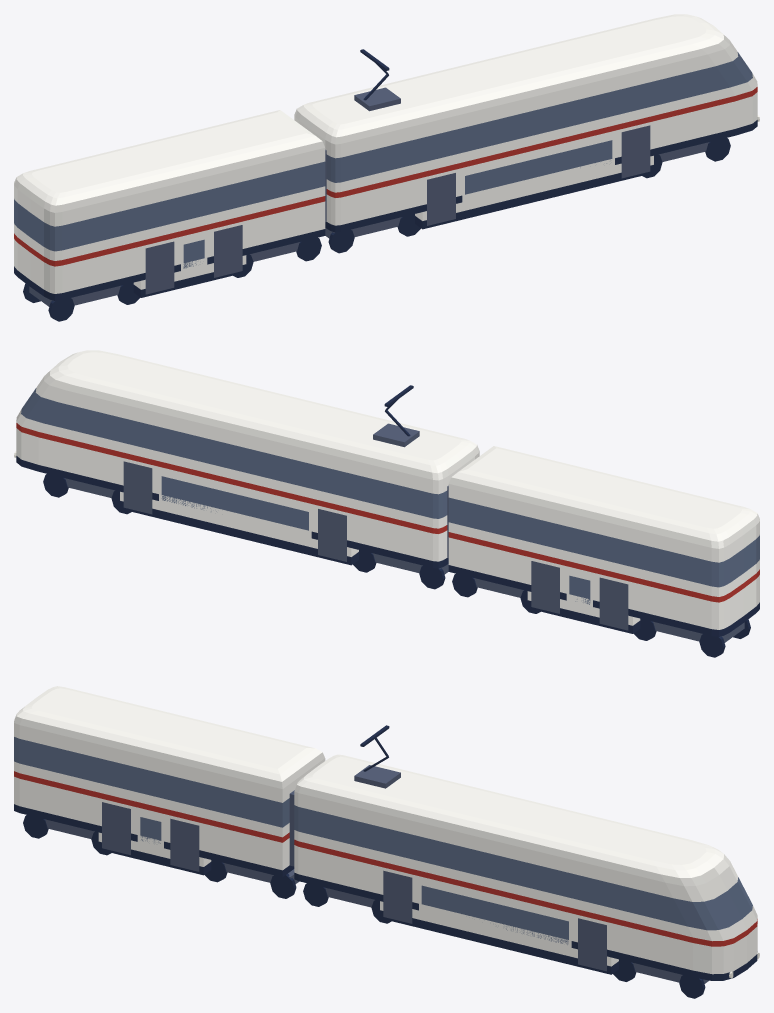
The model's file is train-regional.glb.
3 views of the same model, one above another, from view 1: azimuth 30°, elevation 25°; view 2: azimuth 150°, elevation 25°; view 3: azimuth 330°, elevation 25° (orthographic).
Parts seen in each view (by area): view 1: model; view 2: model; view 3: model.
Boxes of the visible parts, bbox=[...] form: model: bbox=[14, 14, 759, 321]; model: bbox=[14, 350, 759, 657]; model: bbox=[14, 686, 759, 998].
Bounding box in the file's own units: 27.25 × 6.26 × 2.86.
